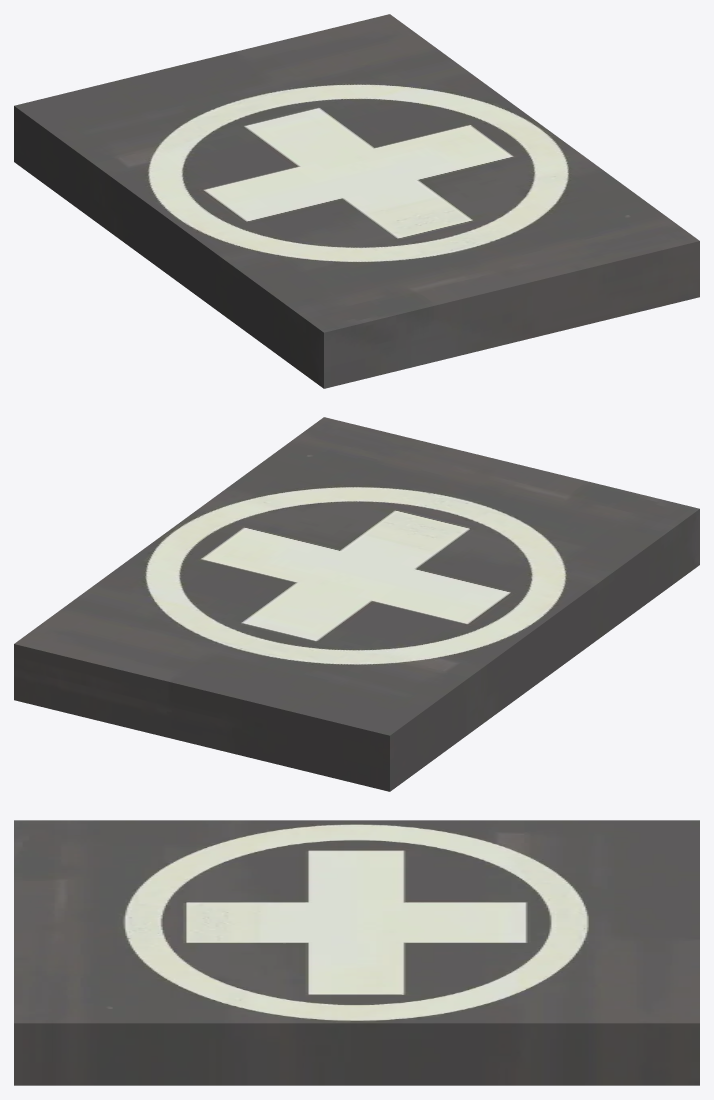
The picture shows the model from 3 angles, top to bottom: view 1: azimuth 30°, elevation 25°; view 2: azimuth 150°, elevation 25°; view 3: azimuth 270°, elevation 25°; orthographic projection. The views are drawn at different scales.
Parts seen in each view (by area): view 1: body0_model0_lod0_mesh0; view 2: body0_model0_lod0_mesh0; view 3: body0_model0_lod0_mesh0.
Part boxes in pixels (x1,y1,x2,y2): body0_model0_lod0_mesh0: (14, 14, 699, 388); body0_model0_lod0_mesh0: (14, 417, 699, 791); body0_model0_lod0_mesh0: (14, 820, 699, 1085).
Size of the model in its own units: 28 by 4 by 40.
Materials: 1 (1 with a texture image).
